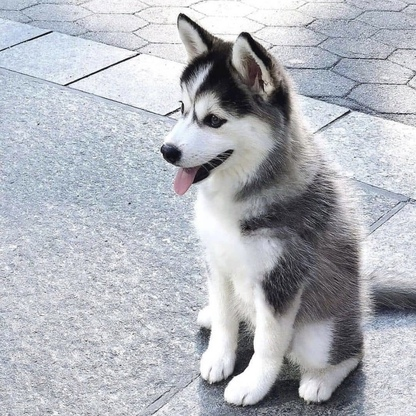husky: (156, 10, 380, 415)
